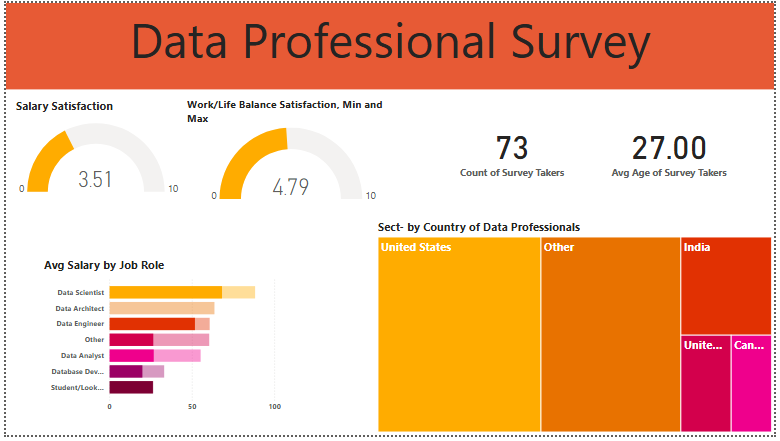

This screenshot's page, from the dashboard's own definition file:
{"tool":"powerbi","page":{"name":"Page 1","canvas":[1280,720],"ordinal":0},"visuals":[{"type":"textbox","box":[0,0,1280,144.3],"z":0},{"type":"card","fields":{"Values":["CountNonNull(Data Professional Survey.Unique ID)"]},"box":[725,168.3,236.7,151.7],"z":1000},{"type":"card","fields":{"Values":["Avg(Data Professional Survey.Q10 - Current Age)"]},"box":[1000,168.3,210,151.7],"z":2000},{"type":"barChart","title":"Avg Salary by Job Role","fields":{"Category":["Data Professional Survey.Q1 - Which Title Best Fits your Current Role?.1"],"Y":["Avg(Data Professional Survey.Avg Salary)"],"Series":["Data Professional Survey.Q1 - Which Title Best Fits your Current Role?.1"]},"box":[57.5,422.5,405,267.5],"z":3000},{"type":"treemap","fields":{"Group":["Data Professional Survey.Q11 - Which Country do you live in?.1"],"Values":["CountNonNull(Data Professional Survey.Q11 - Which Country do you live in?.1)"]},"box":[614.3,360,665.7,360],"z":4000},{"type":"gauge","title":"Salary Satisfaction","fields":{"Y":["Avg(Data Professional Survey.Q6 - How Happy are you in your Current Position with the following? (Salary))"],"MinValue":["Min(Data Professional Survey.Q6 - How Happy are you in your Current Position with the following? (Salary))"],"MaxValue":["Max(Data Professional Survey.Q6 - How Happy are you in your Current Position with the following? (Salary))"]},"box":[11.7,158.3,285,178.3],"z":5000},{"type":"gauge","fields":{"Y":["Avg(Data Professional Survey.Q6 - How Happy are you in your Current Position with the following? (Work/Life Balance))"],"MinValue":["Min(Data Professional Survey.Q6 - How Happy are you in your Current Position with the following? (Work/Life Balance))"],"MaxValue":["Max(Data Professional Survey.Q6 - How Happy are you in your Current Position with the following? (Work/Life Balance))"]},"box":[296.7,156.7,365,180],"z":6000}]}

Visuals, with their boxes in screenshot pixels (x1, y1, x2, y2), scaled from the page's 1280x720 canvas onto the 780x441 screenshot:
textbox: l=0, t=0, r=779, b=88
card - CountNonNull(Data Professional Survey.Unique ID): l=442, t=103, r=586, b=196
card - Avg(Data Professional Survey.Q10 - Current Age): l=609, t=103, r=737, b=196
"Avg Salary by Job Role" barChart: l=35, t=259, r=282, b=423
treemap - Data Professional Survey.Q11 - Which Country do you live in?.1 x CountNonNull(Data Professional Survey.Q11 - Which Country do you live in?.1): l=374, t=221, r=779, b=440
"Salary Satisfaction" gauge: l=7, t=97, r=181, b=206
gauge - Avg(Data Professional Survey.Q6 - How Happy are you in your Current Position with the following? (Work/Life Balance)) x Min(Data Professional Survey.Q6 - How Happy are you in your Current Position with the following? (Work/Life Balance)): l=181, t=96, r=403, b=206
